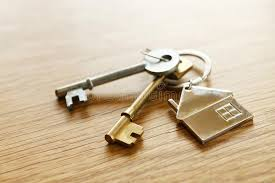key: (54, 52, 193, 148)
